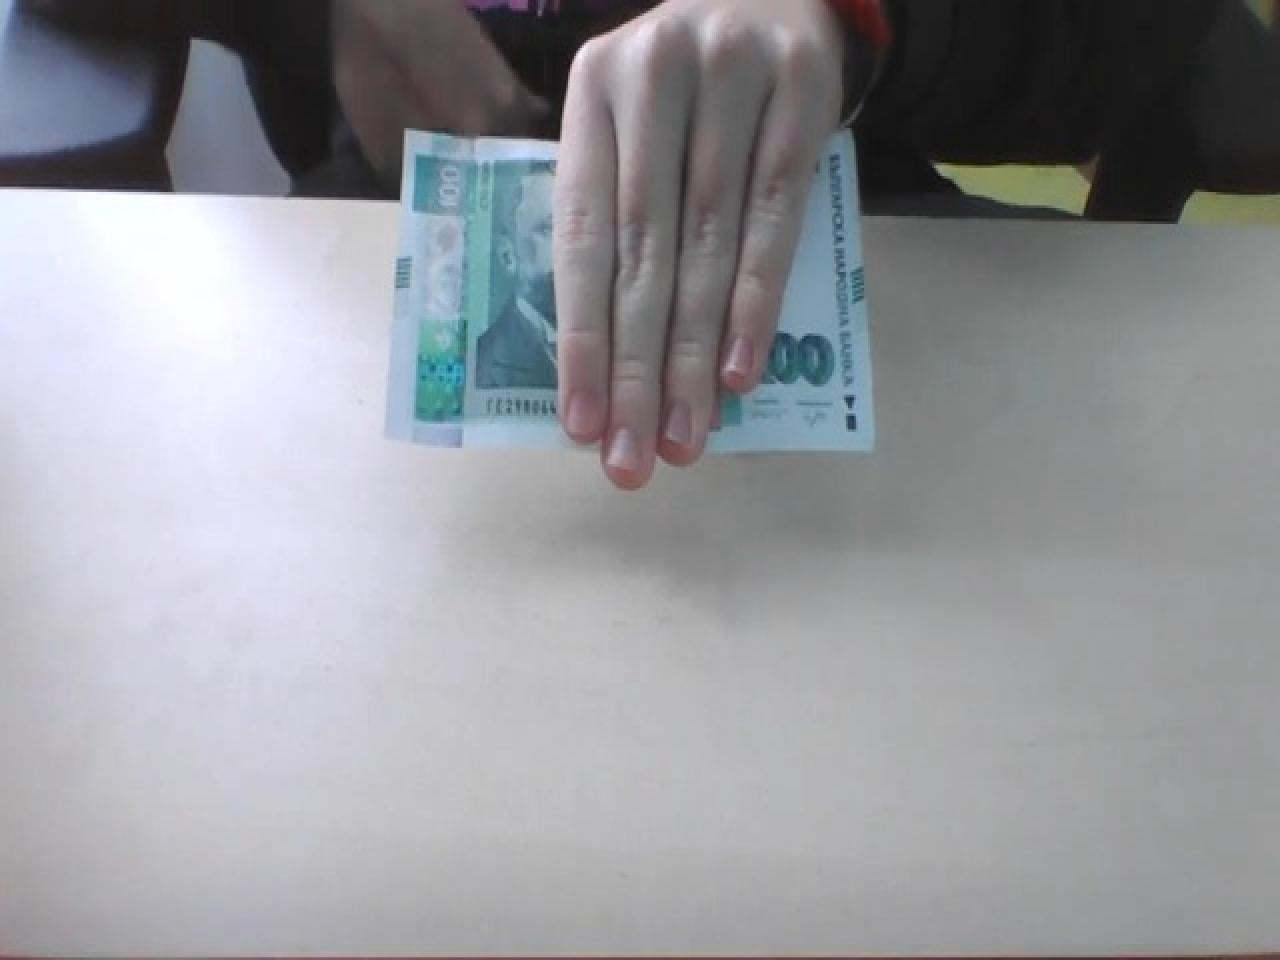100leva: (384, 122, 874, 459)
